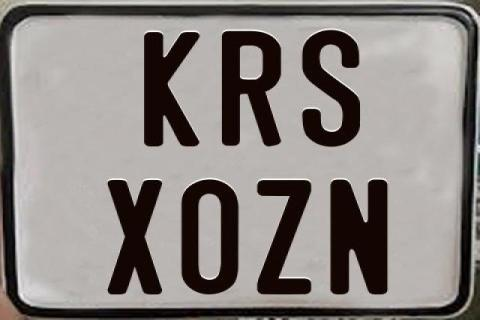0: (180, 177, 243, 296)
K: (142, 32, 204, 150)
N: (330, 177, 389, 297)
R: (219, 31, 278, 146)
S: (299, 28, 357, 148)
X: (104, 178, 160, 294)
Z: (256, 178, 316, 296)
